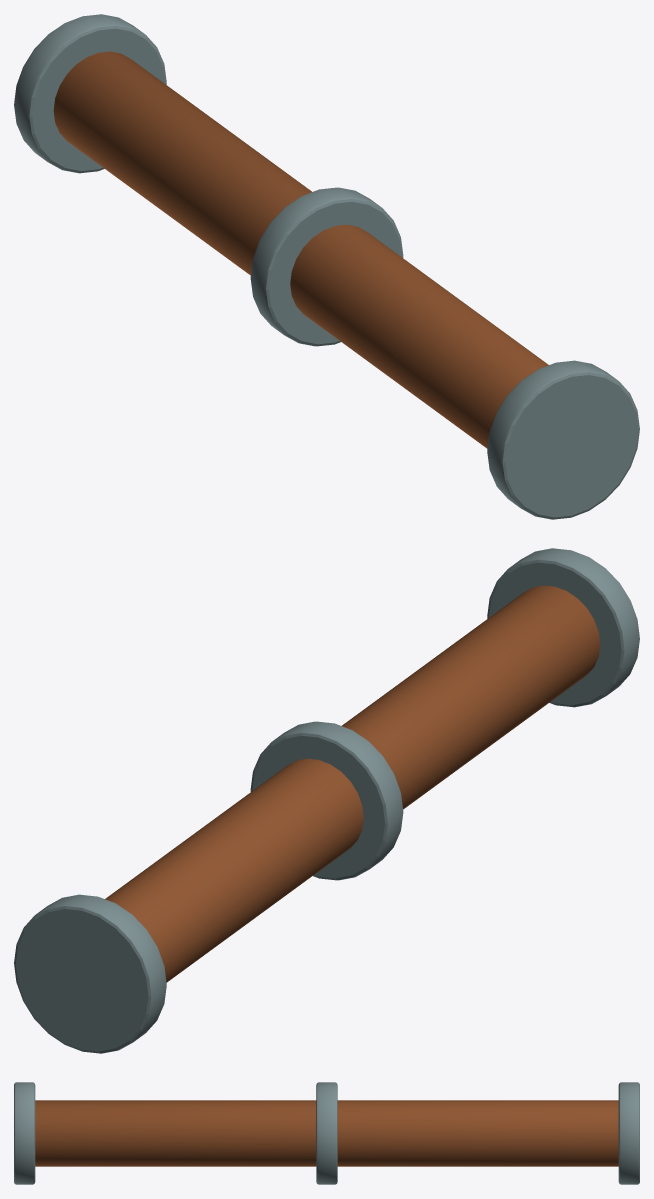
The model's file is SM_PipeStraight_200.fbx.
3 views of the same model, one above another, from view 1: azimuth 30°, elevation 25°; view 2: azimuth 150°, elevation 25°; view 3: azimuth 270°, elevation 25° (orthographic). The views are drawn at different scales.
Parts seen in each view (by area): view 1: SM_PipeStraight_200; view 2: SM_PipeStraight_200; view 3: SM_PipeStraight_200.
Boxes of the visible parts, left/top/right/bottom form: SM_PipeStraight_200: left=14, top=14, right=639, bottom=519; SM_PipeStraight_200: left=14, top=548, right=639, bottom=1053; SM_PipeStraight_200: left=14, top=1082, right=639, bottom=1184.
Size of what is drawn, in the model's own units: 0.34 by 2.07 by 0.34.
